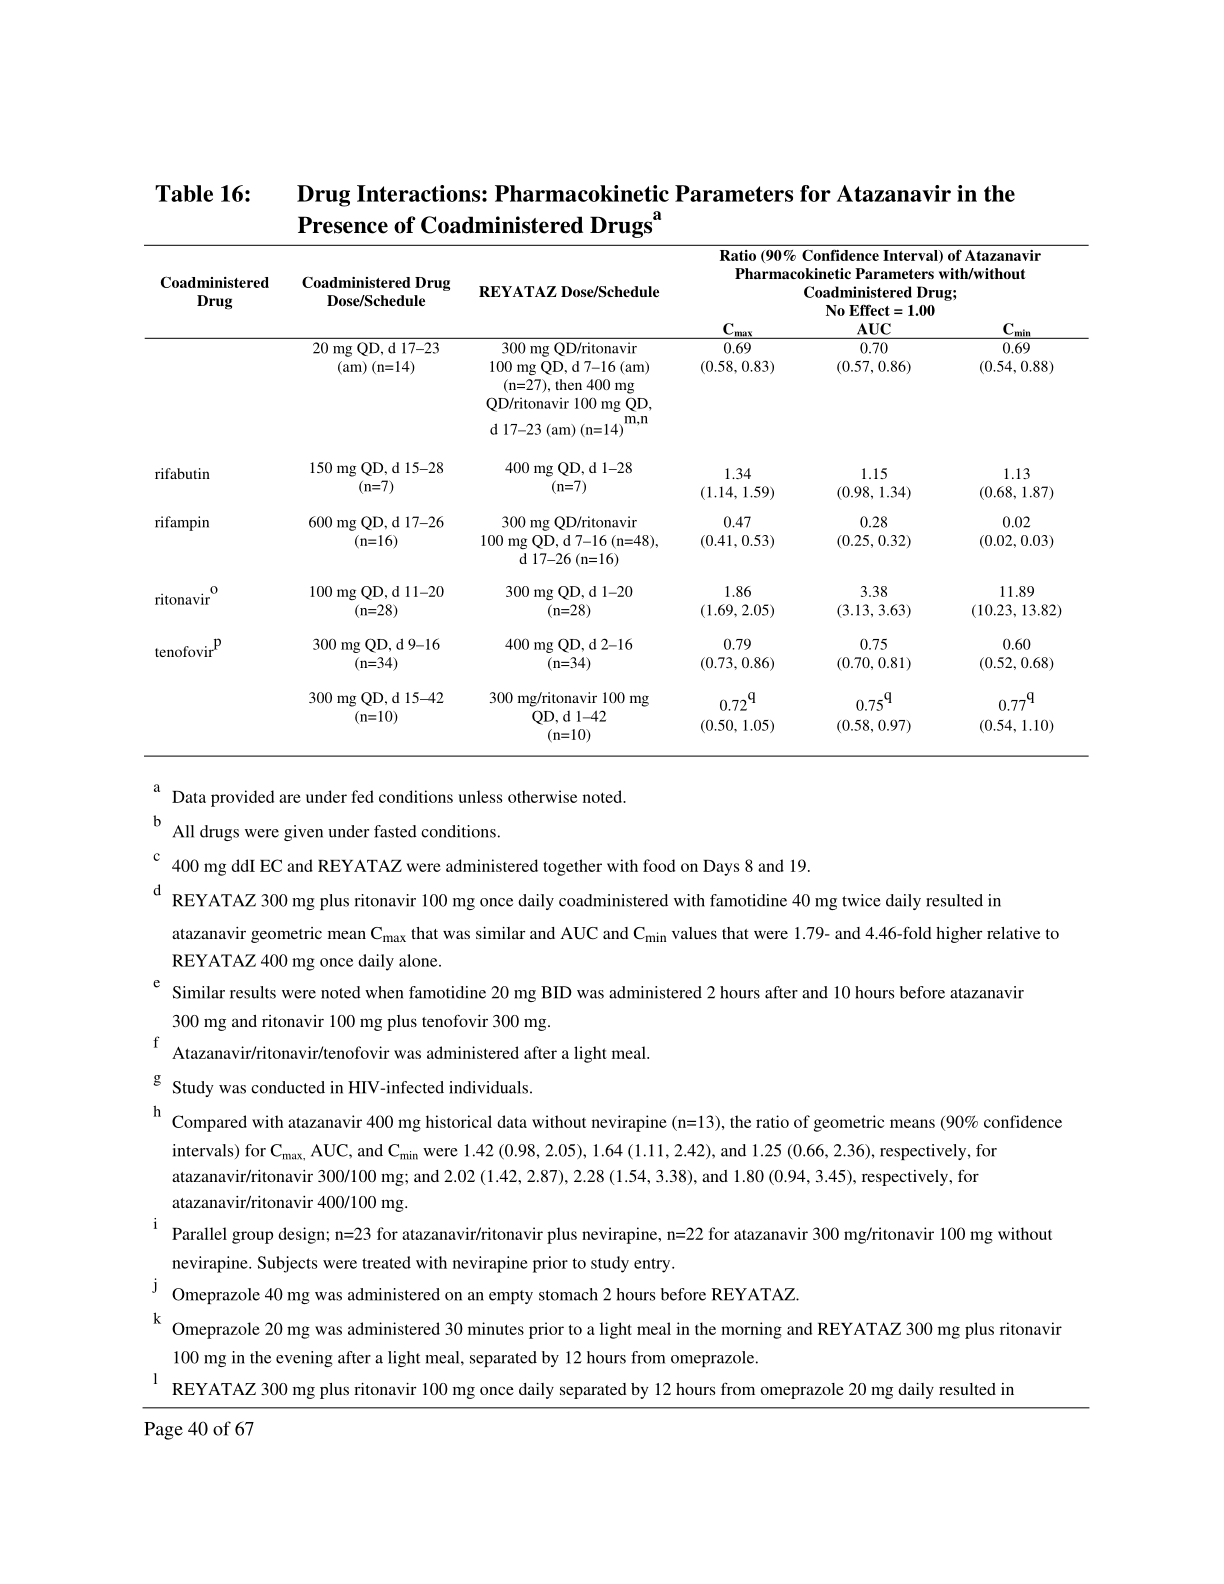partial_lined_merged_cells: (144, 240, 1093, 760)
